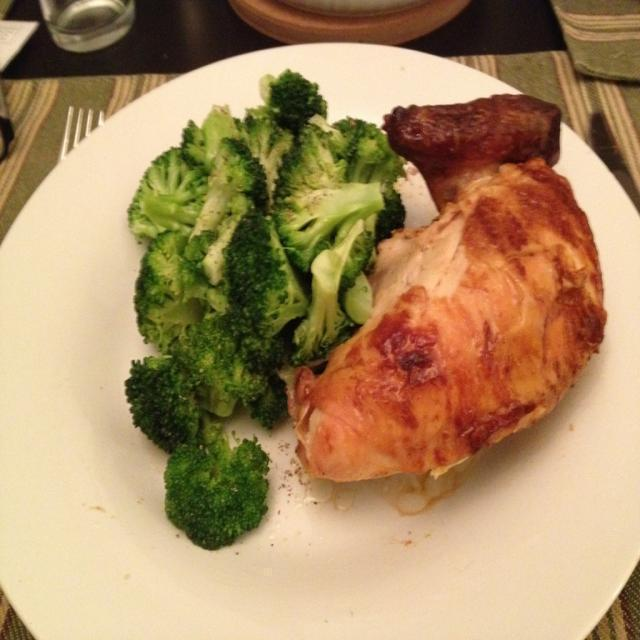Broccoli: (122, 69, 407, 551), (160, 410, 278, 556)
